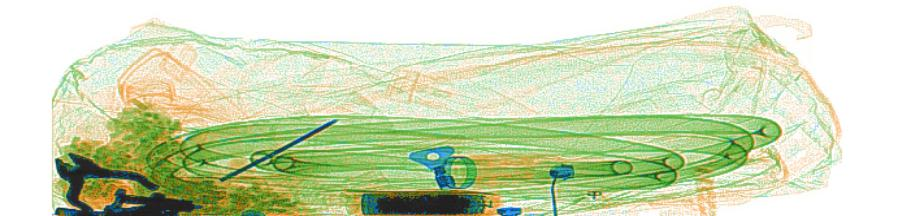battery: (361, 188, 502, 212)
